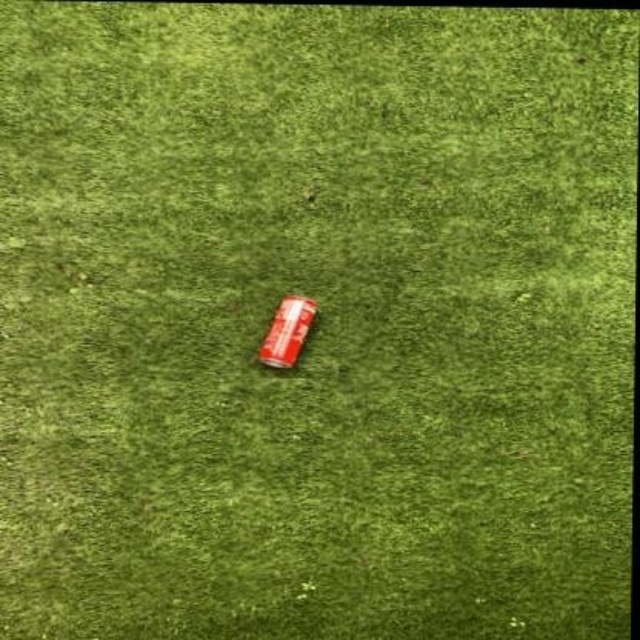trash: (258, 295, 315, 366)
